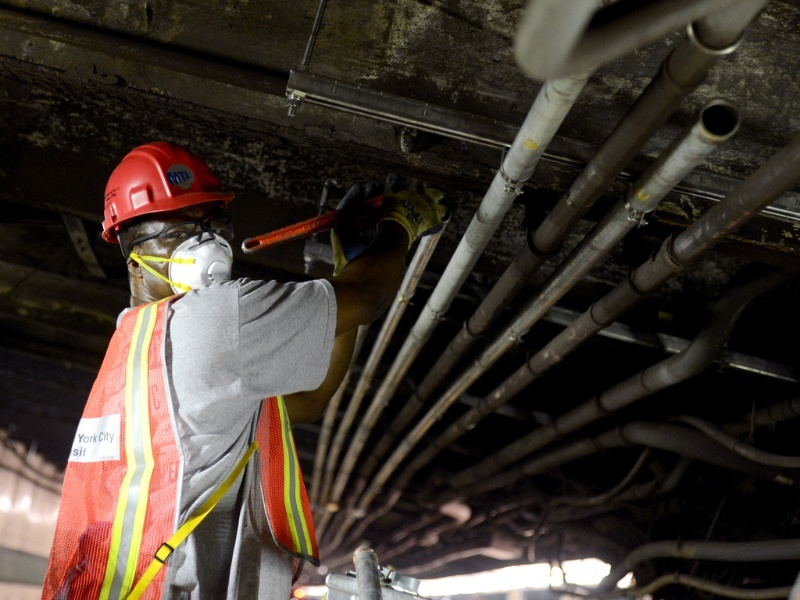Baret: (95, 139, 231, 228)
Gozluk: (136, 216, 244, 249)
